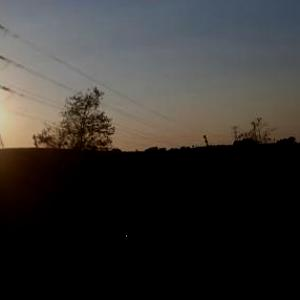follow: (114, 166, 176, 299)
